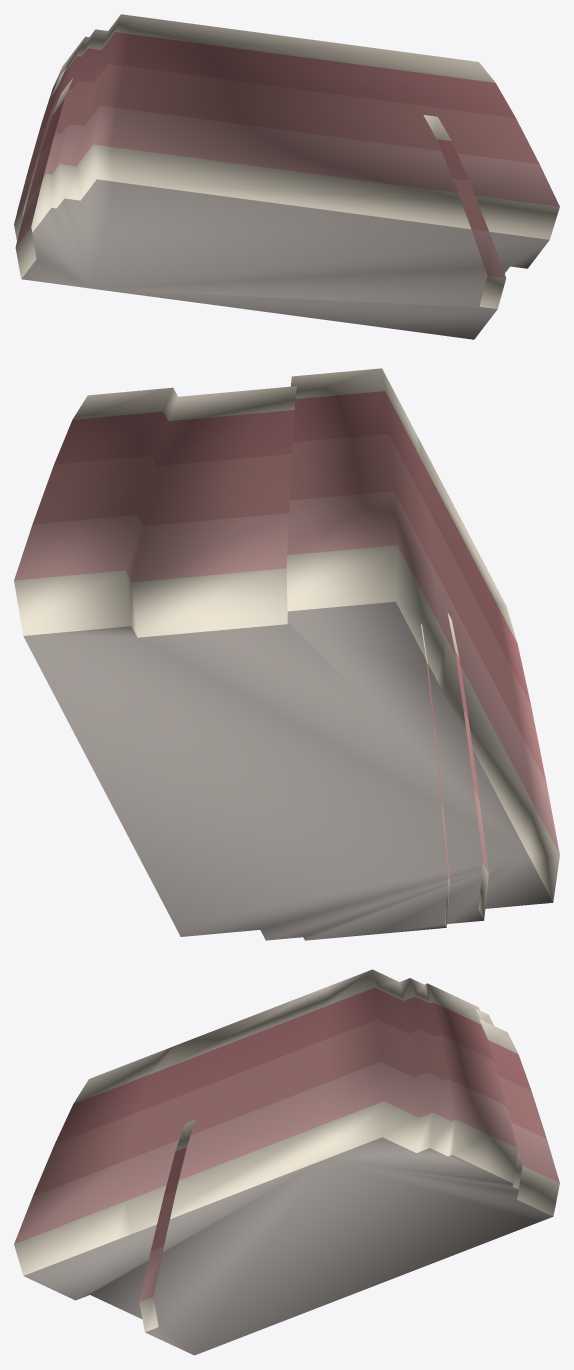
File: NhaHat_ThanhPho_LoD3.gltf
The picture shows the model from 3 angles, top to bottom: view 1: azimuth 30°, elevation 25°; view 2: azimuth 150°, elevation 25°; view 3: azimuth 270°, elevation 25°; orthographic projection. The views are drawn at different scales.
Parts seen in each view (by area): view 1: Nhà hát Thành phố; view 2: Nhà hát Thành phố; view 3: Nhà hát Thành phố.
Part boxes in pixels (x1,y1,x2,y2): Nhà hát Thành phố: (14, 14, 559, 339); Nhà hát Thành phố: (14, 368, 559, 940); Nhà hát Thành phố: (14, 969, 559, 1355).
Bounding box in the file's own units: 67.64 × 26 × 69.38.
